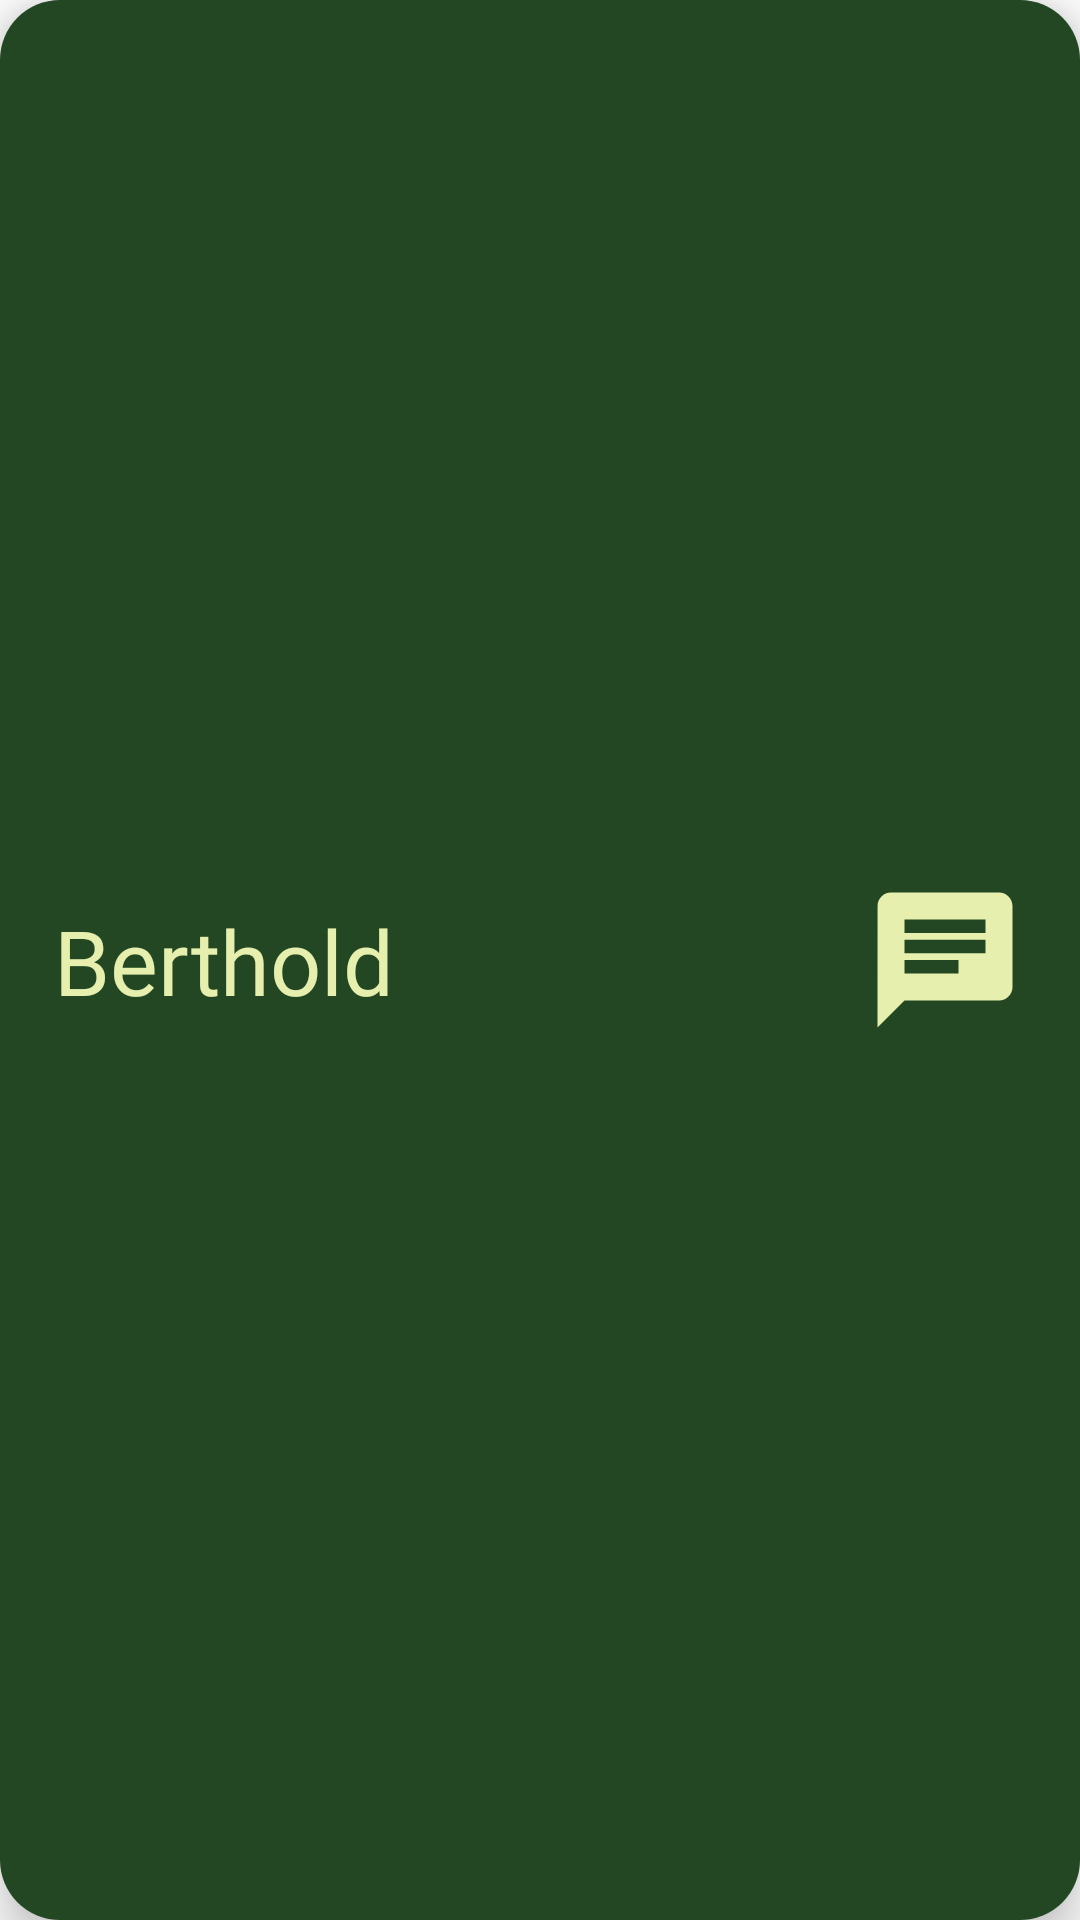

Icons on this 1080px x 1920px Android screen, each with the point to tap as (x,y):
chat: (945,960)
